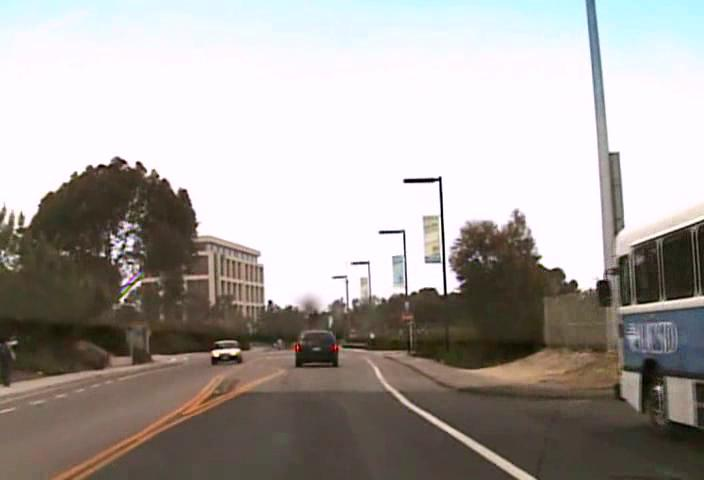stop: (399, 310, 413, 324)
